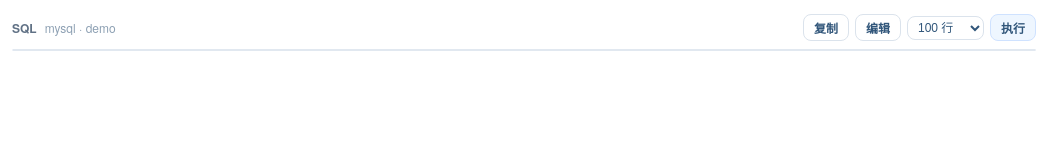
Scenario: SqlCodePanel › shows the error message when execution fails
The image size is (1048, 163).
Click the button "执行" at x=1013, y=28, box [990,14,1036,41]
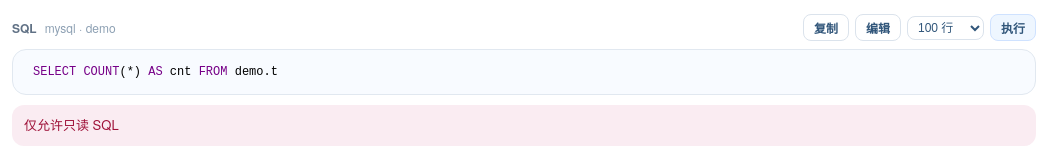
Expected: the text with class "sql-panel-error" reads "仅允许只读 SQL", [24,115,119,134]
